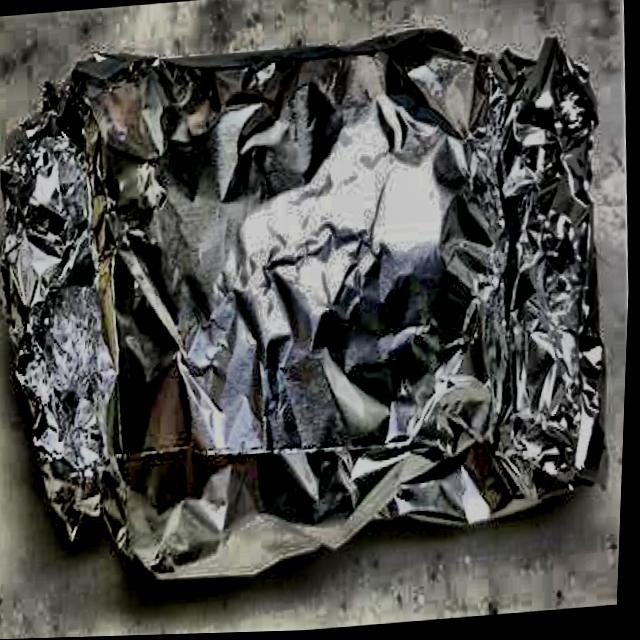Foil: (0, 6, 639, 620)
